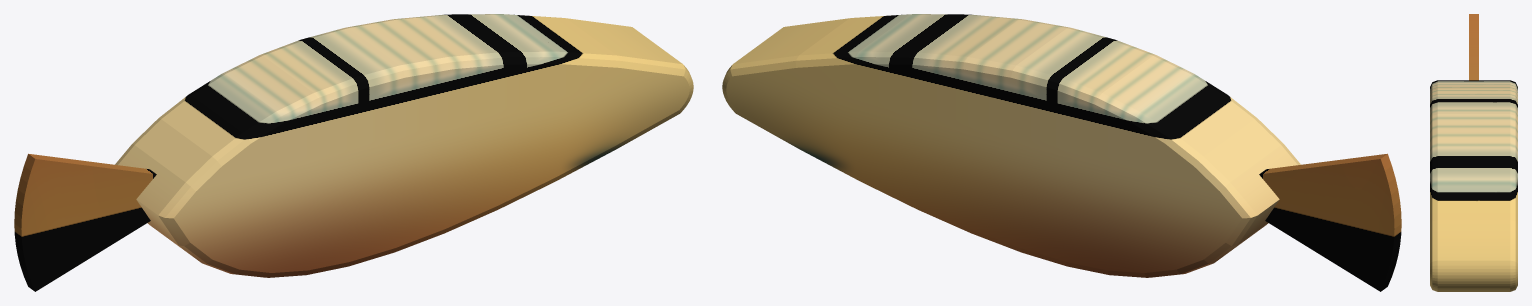
The model's file is fish-tropical-school.glb.
3 views of the same model, side by side, from view 1: azimuth 30°, elevation 25°; view 2: azimuth 150°, elevation 25°; view 3: azimuth 270°, elevation 25° (orthographic). The views are drawn at different scales.
Bounding box in the file's own units: 2.06 × 0.5676 × 0.34.
1 material, 1 textured.
